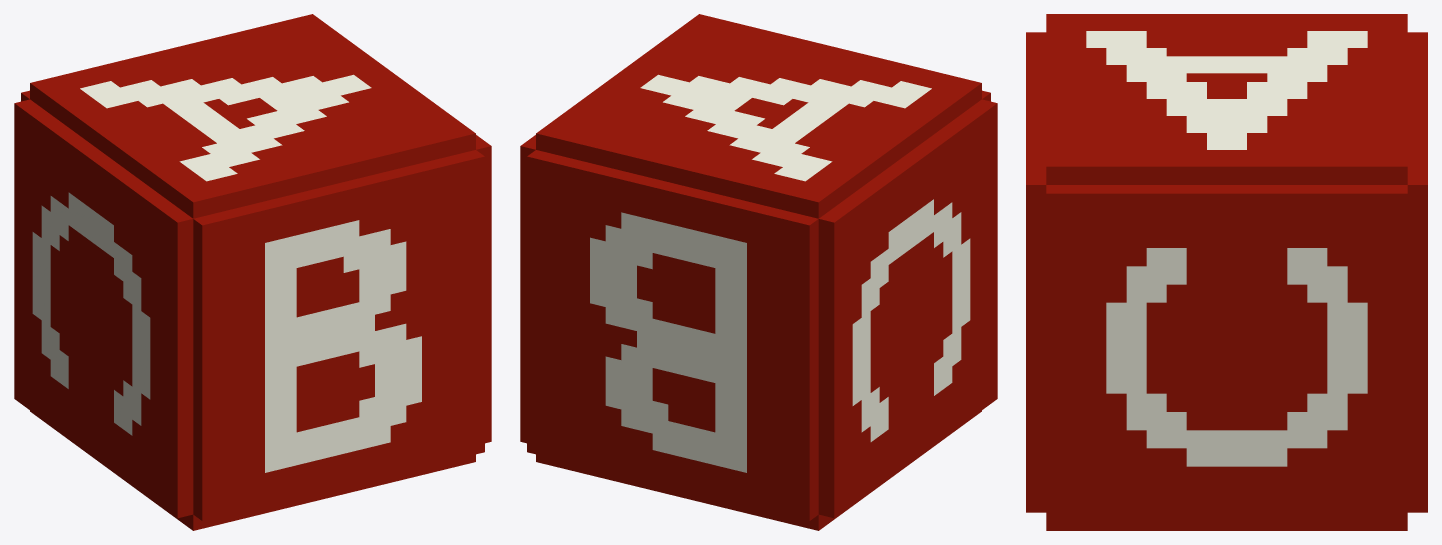
The model's file is cube_abc_rouge.obj.
3 renders of one model, left to right at view 1: azimuth 30°, elevation 25°; view 2: azimuth 150°, elevation 25°; view 3: azimuth 270°, elevation 25°, orthographic. The views are drawn at different scales.
Bounding box in the file's own units: 20 × 20 × 20.
1 material, 1 textured.
